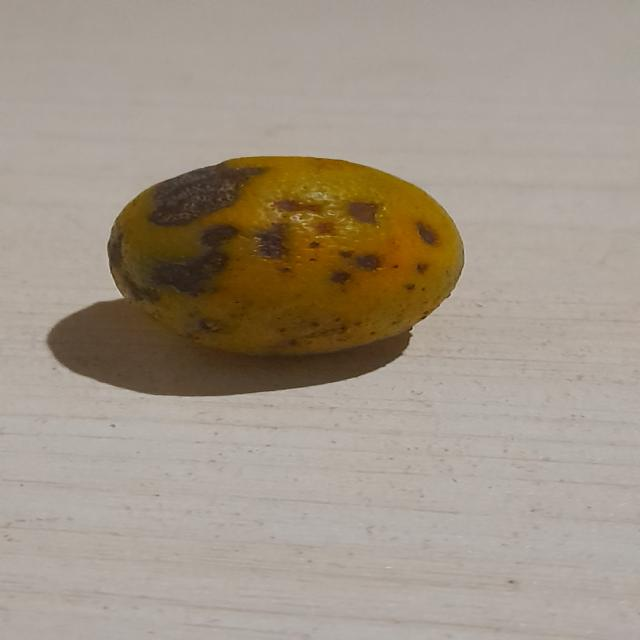black spot: (107, 156, 470, 364)
